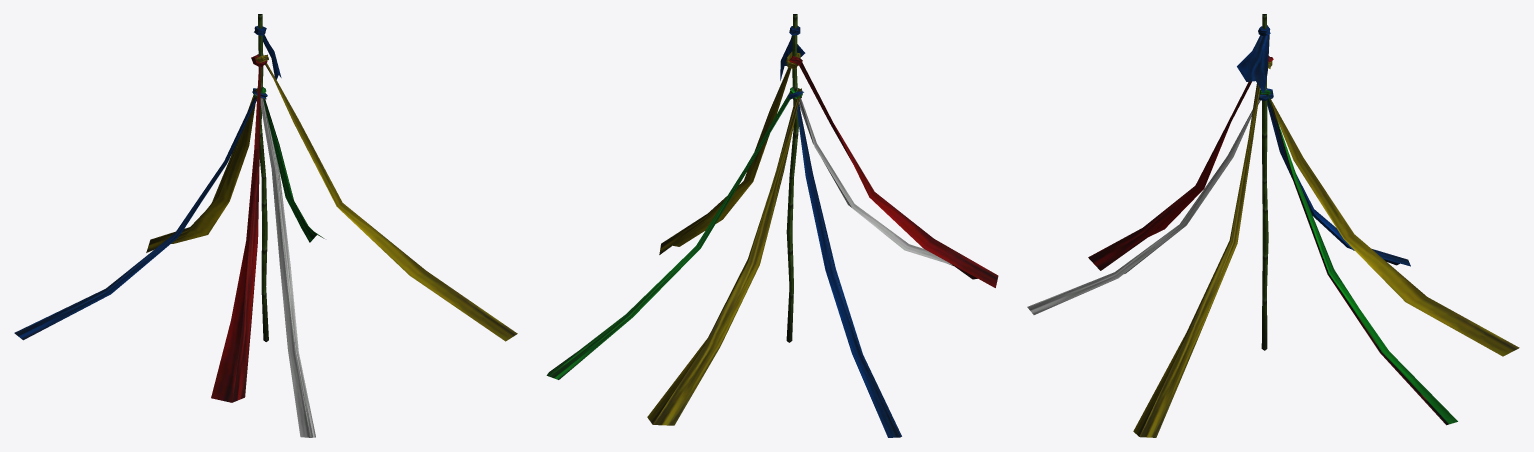
Rendered from shrine_06.fbx.
3 views of the same model, side by side, from view 1: azimuth 30°, elevation 25°; view 2: azimuth 150°, elevation 25°; view 3: azimuth 270°, elevation 25° (orthographic).
Visible parts, largest first — view 1: Shrine_06; view 2: Shrine_06; view 3: Shrine_06.
Boxes of the visible parts, x1,y1,x2,y2 form: Shrine_06: (14,14,517,437); Shrine_06: (546,14,998,437); Shrine_06: (1027,14,1519,437).
Size of the model in its own units: 9.71 by 8.29 by 11.02.
